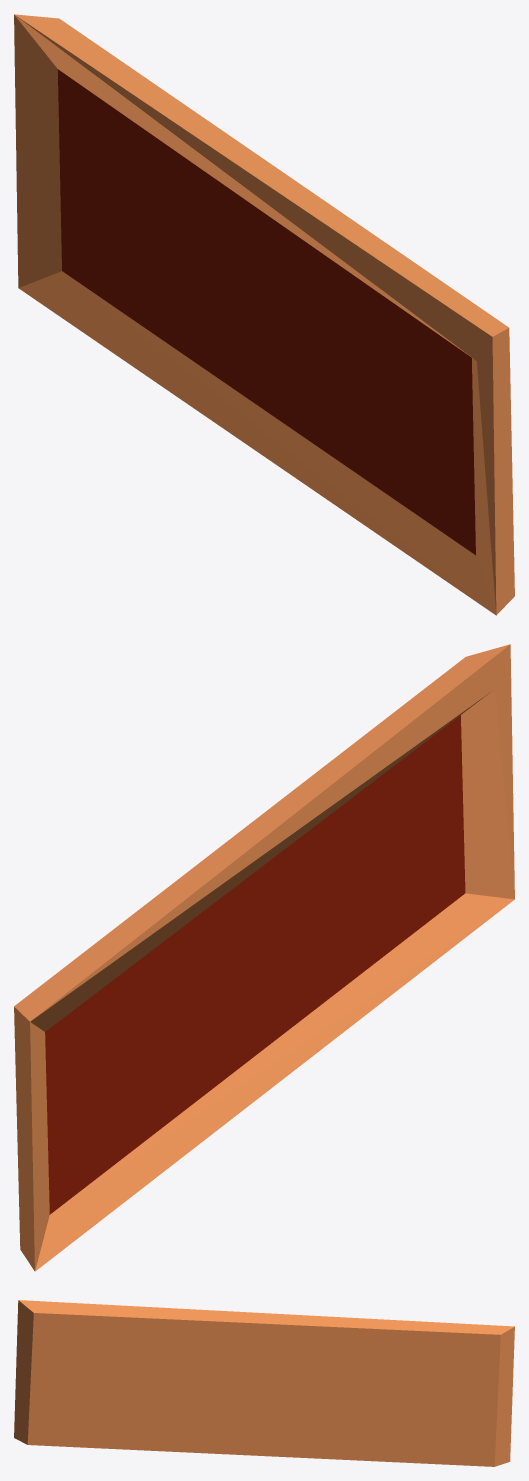
Rendered from Circusbg.fbx.
The picture shows the model from 3 angles, top to bottom: view 1: azimuth 30°, elevation 25°; view 2: azimuth 150°, elevation 25°; view 3: azimuth 270°, elevation 25°; orthographic projection. The views are drawn at different scales.
Parts seen in each view (by area): view 1: Circusbg; view 2: Circusbg; view 3: Circusbg.
Part boxes in pixels (box(x1,y1,x2,y2)): Circusbg: box(14, 14, 514, 615); Circusbg: box(14, 644, 514, 1271); Circusbg: box(14, 1300, 514, 1466).
Bounding box in the file's own units: 0.229 × 4.06 × 1.41.
